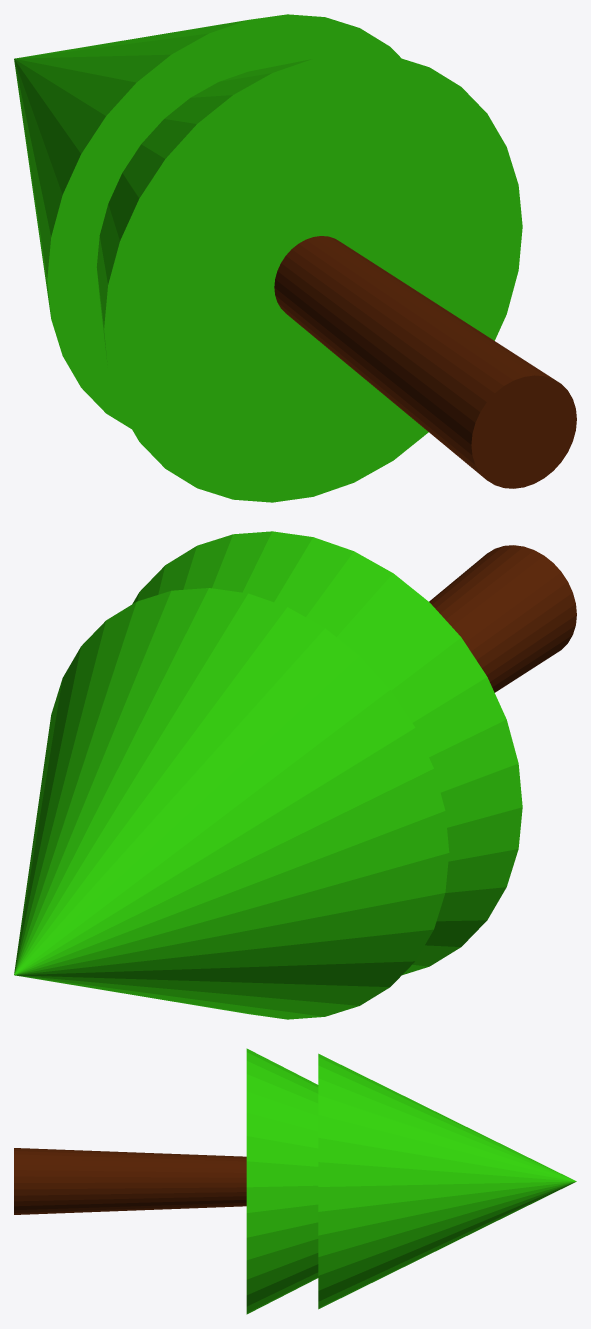
File: tree.glb
The picture shows the model from 3 angles, top to bottom: view 1: azimuth 30°, elevation 25°; view 2: azimuth 150°, elevation 25°; view 3: azimuth 270°, elevation 25°; orthographic projection. The views are drawn at different scales.
Visible parts, largest first — view 1: Leaf, wood; view 2: Leaf, wood; view 3: Leaf, wood.
Boxes of the visible parts, x1,y1,x2,y2 form: Leaf: [14, 14, 522, 502]; wood: [274, 236, 576, 488]; Leaf: [14, 531, 522, 1019]; wood: [429, 545, 576, 692]; Leaf: [246, 1048, 576, 1314]; wood: [14, 1148, 246, 1214].
Bounding box in the file's own units: 4.04 × 4.04 × 8.52.
